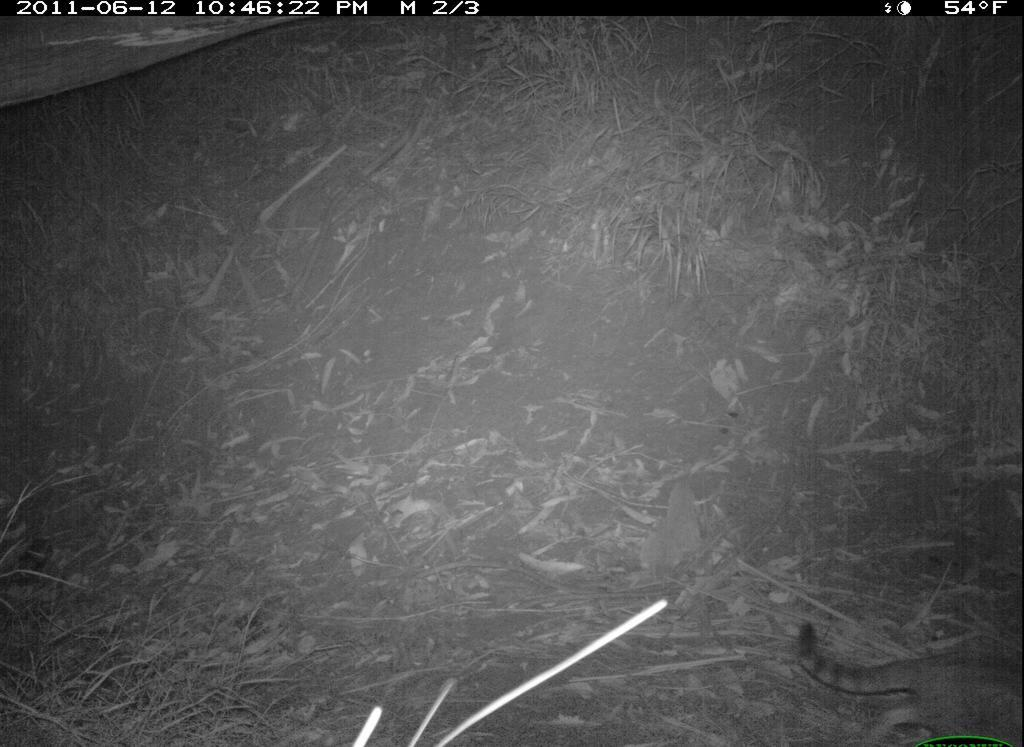cat: (788, 609, 1022, 740)
